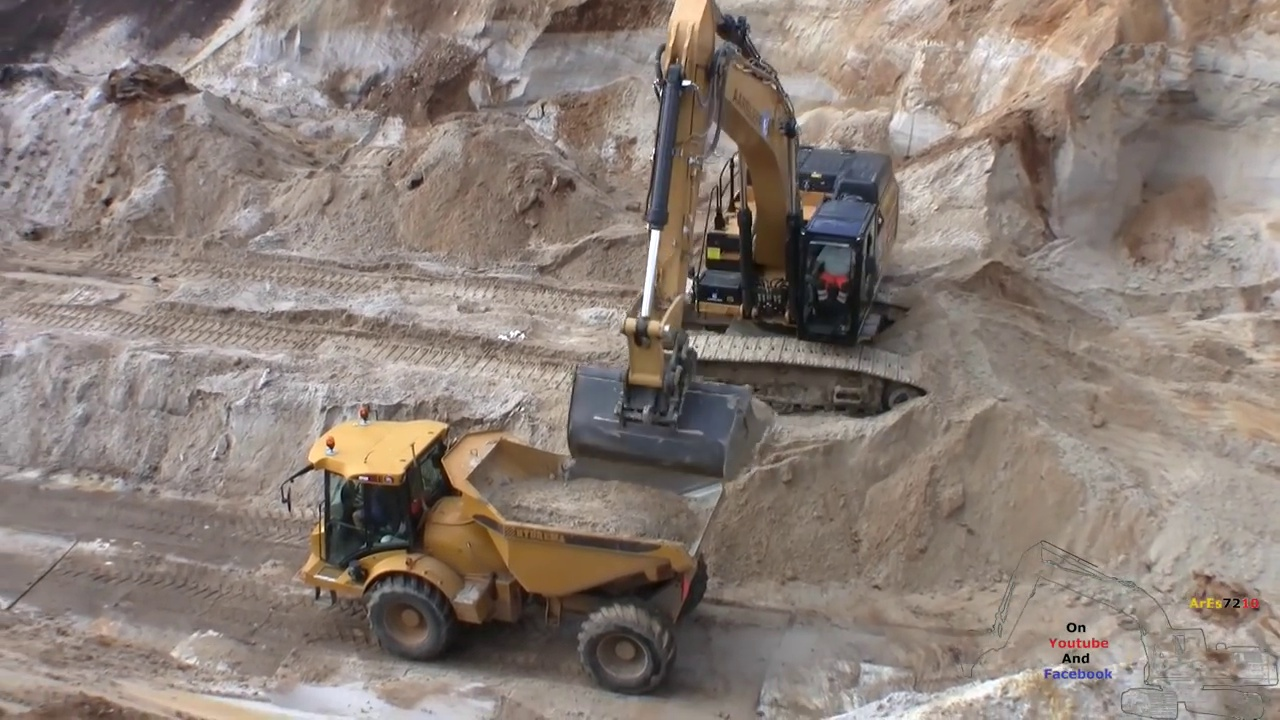dumper: (301, 419, 727, 699)
excavator: (567, 2, 930, 487)
